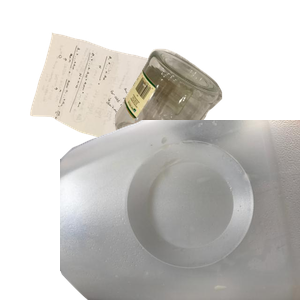glass: (110, 46, 300, 205)
paper: (27, 30, 203, 178)
plastic: (60, 120, 300, 300)
trash: (73, 171, 242, 300)
